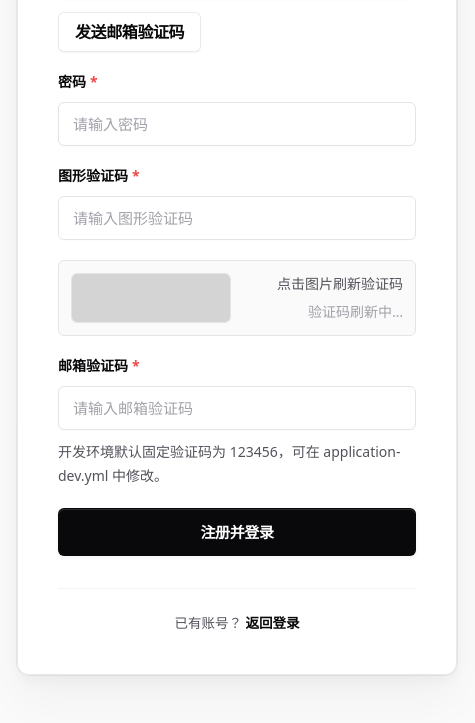
Test: RegisterPage › shows required field errors and invalid state on submit
The width and height of the screenshot is (475, 723).
(page scrolled)
Click the button "注册并登录". click: (237, 532)
box: left=58, top=508, right=416, bottom=556
(page scrolled)
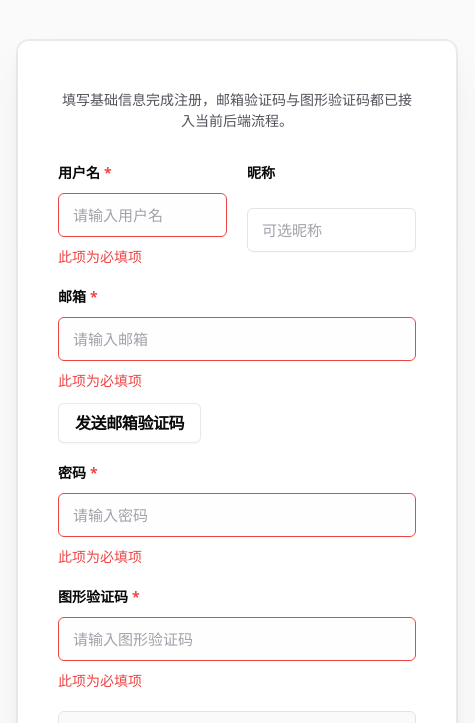
expect the text "此项为必填项" is shown 5 times: met
